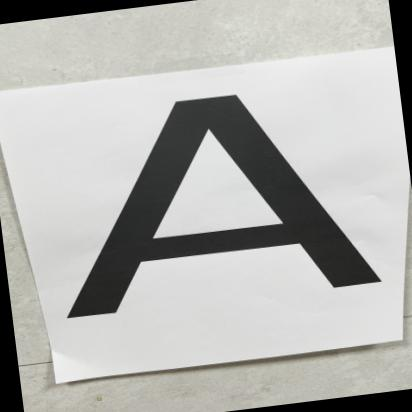seat: (54, 67, 386, 335)
